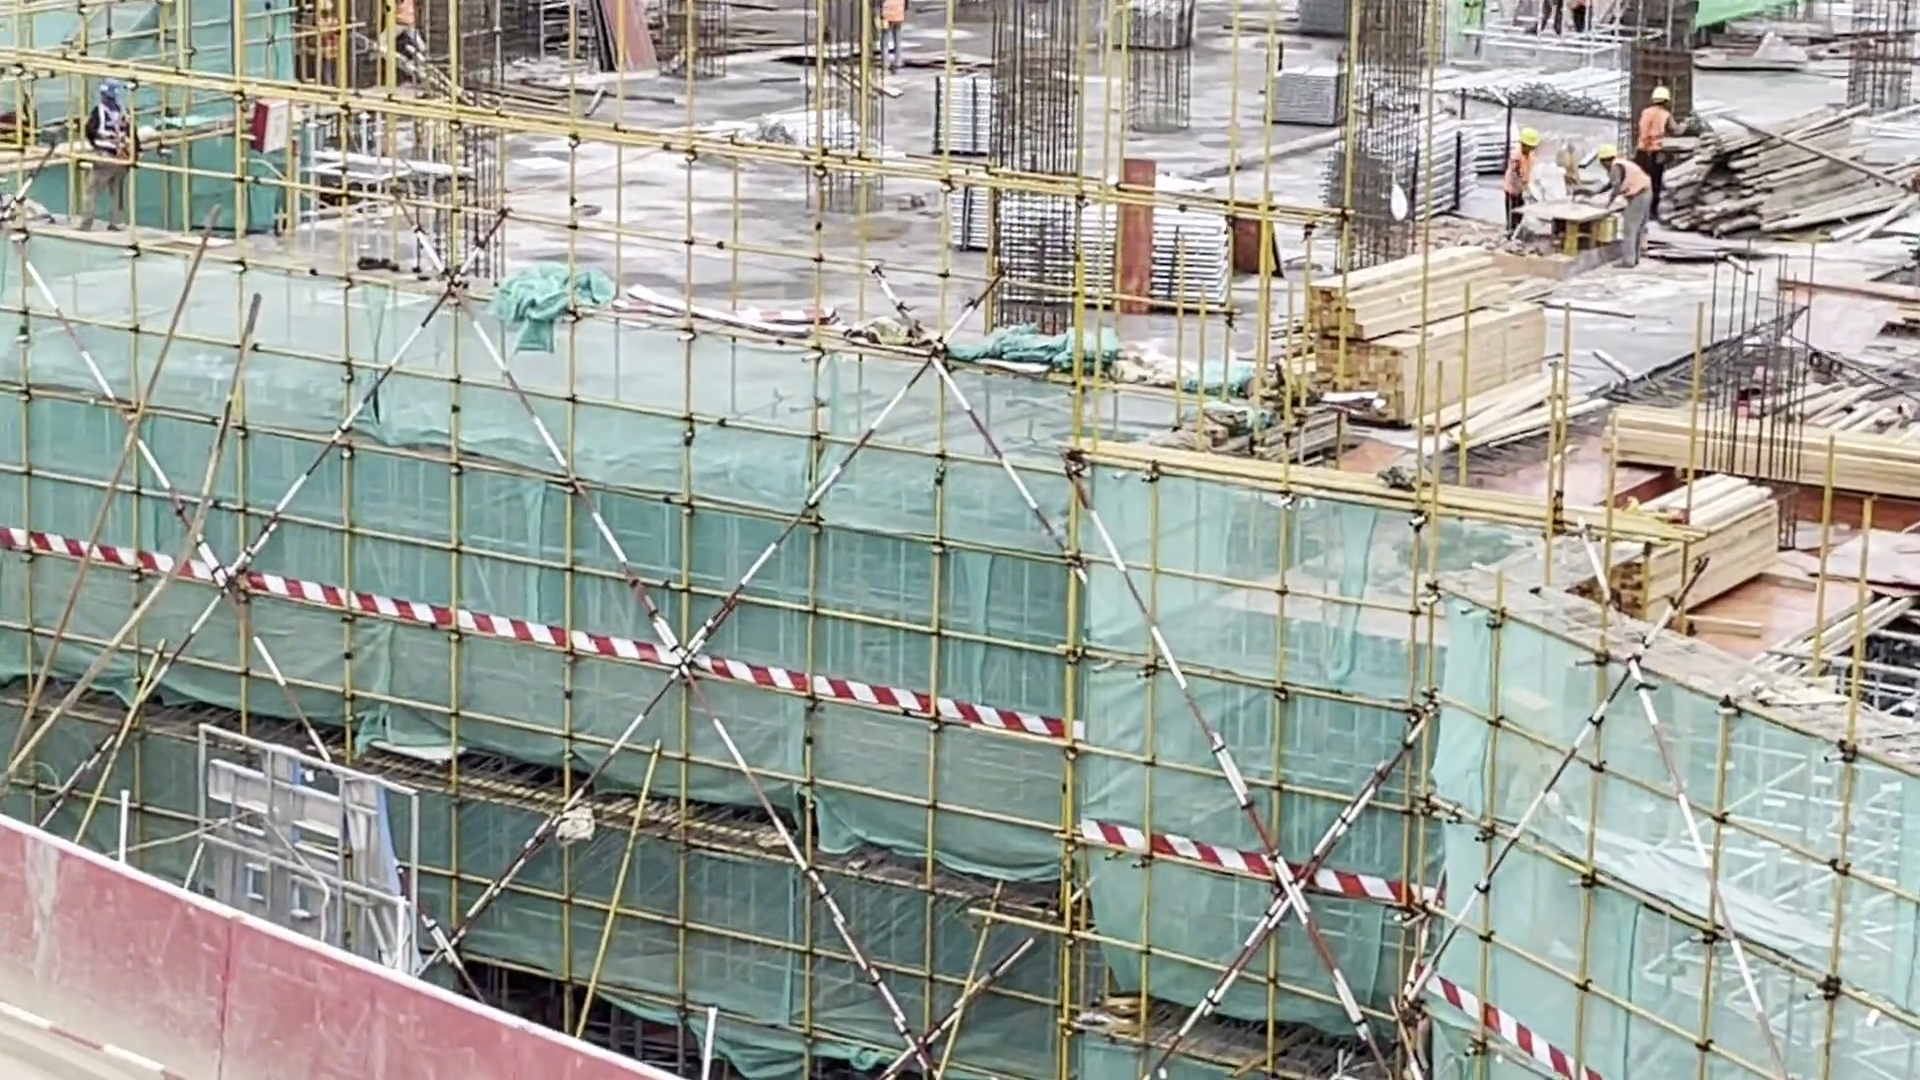fence: (1, 799, 702, 1080)
helmet: (1592, 139, 1627, 176), (1649, 74, 1678, 108), (1518, 124, 1545, 152)
person: (71, 85, 143, 228), (1585, 141, 1655, 279), (1494, 115, 1538, 233), (1638, 75, 1677, 168)
scaffold: (941, 173, 1242, 311), (1322, 130, 1513, 210), (915, 71, 1087, 155), (1450, 63, 1640, 124), (1257, 62, 1356, 125)
vest: (82, 111, 140, 165), (1641, 104, 1675, 148), (1610, 162, 1651, 198), (1505, 153, 1538, 192)
wood: (1303, 241, 1554, 422), (1611, 401, 1920, 509), (1615, 476, 1770, 608)
